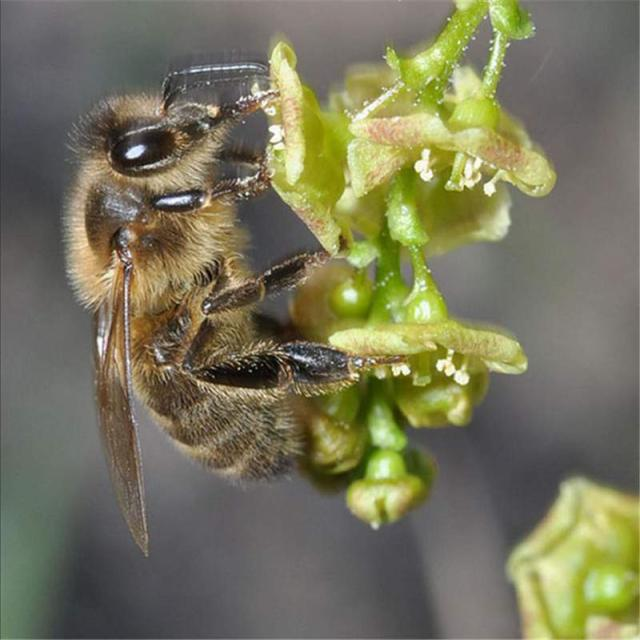Apis-mellifera-scutellata: (37, 60, 434, 546)
